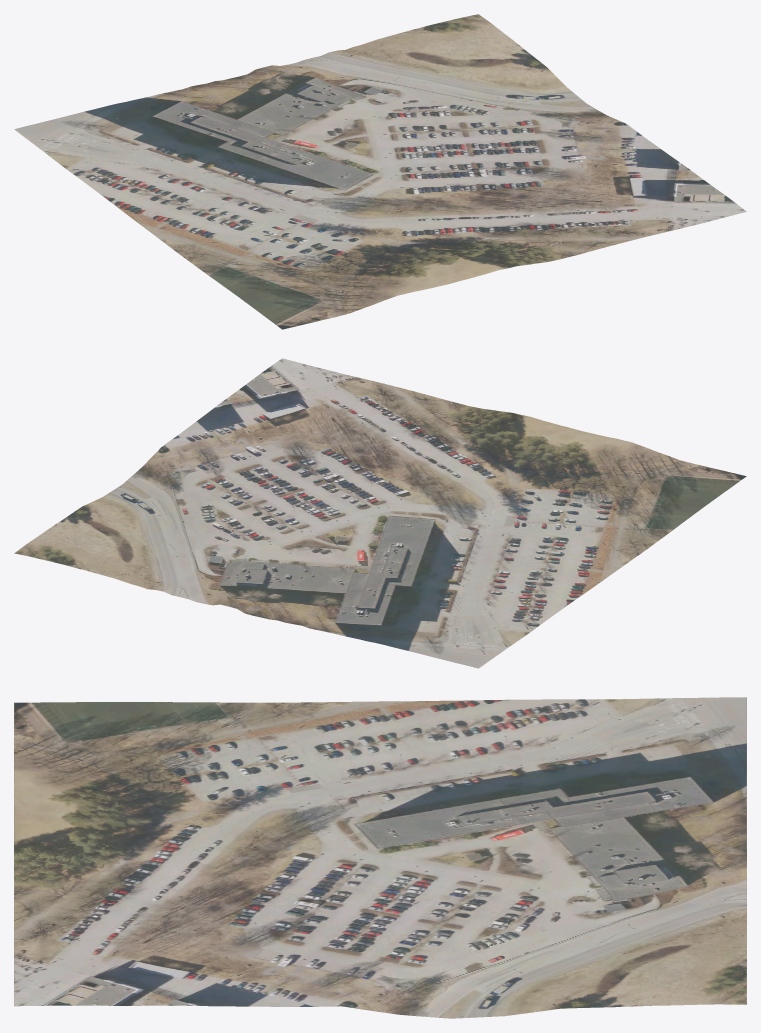
File: CM_Terrain_24489434_6821227.fbx
3 renders of one model, top to bottom at view 1: azimuth 30°, elevation 25°; view 2: azimuth 150°, elevation 25°; view 3: azimuth 270°, elevation 25°, orthographic. The views are drawn at different scales.
Parts seen in each view (by area): view 1: CM_Terrain_24489434_6821227_LOD0; view 2: CM_Terrain_24489434_6821227_LOD0; view 3: CM_Terrain_24489434_6821227_LOD0.
Boxes of the visible parts, bbox=[...] form: CM_Terrain_24489434_6821227_LOD0: bbox=[14, 14, 746, 329]; CM_Terrain_24489434_6821227_LOD0: bbox=[14, 358, 746, 668]; CM_Terrain_24489434_6821227_LOD0: bbox=[14, 697, 746, 1018].
Size of what is drawn, in the model's own units: 205 by 5.07 by 205.
